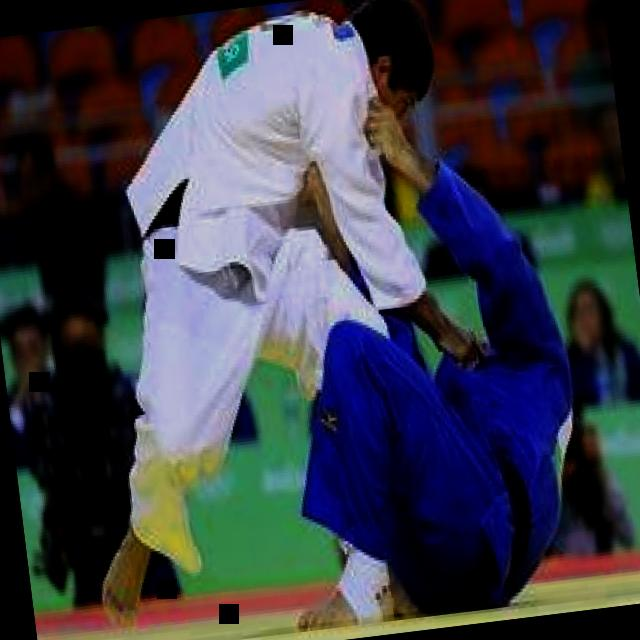Fall-Detected: (201, 76, 628, 620)
